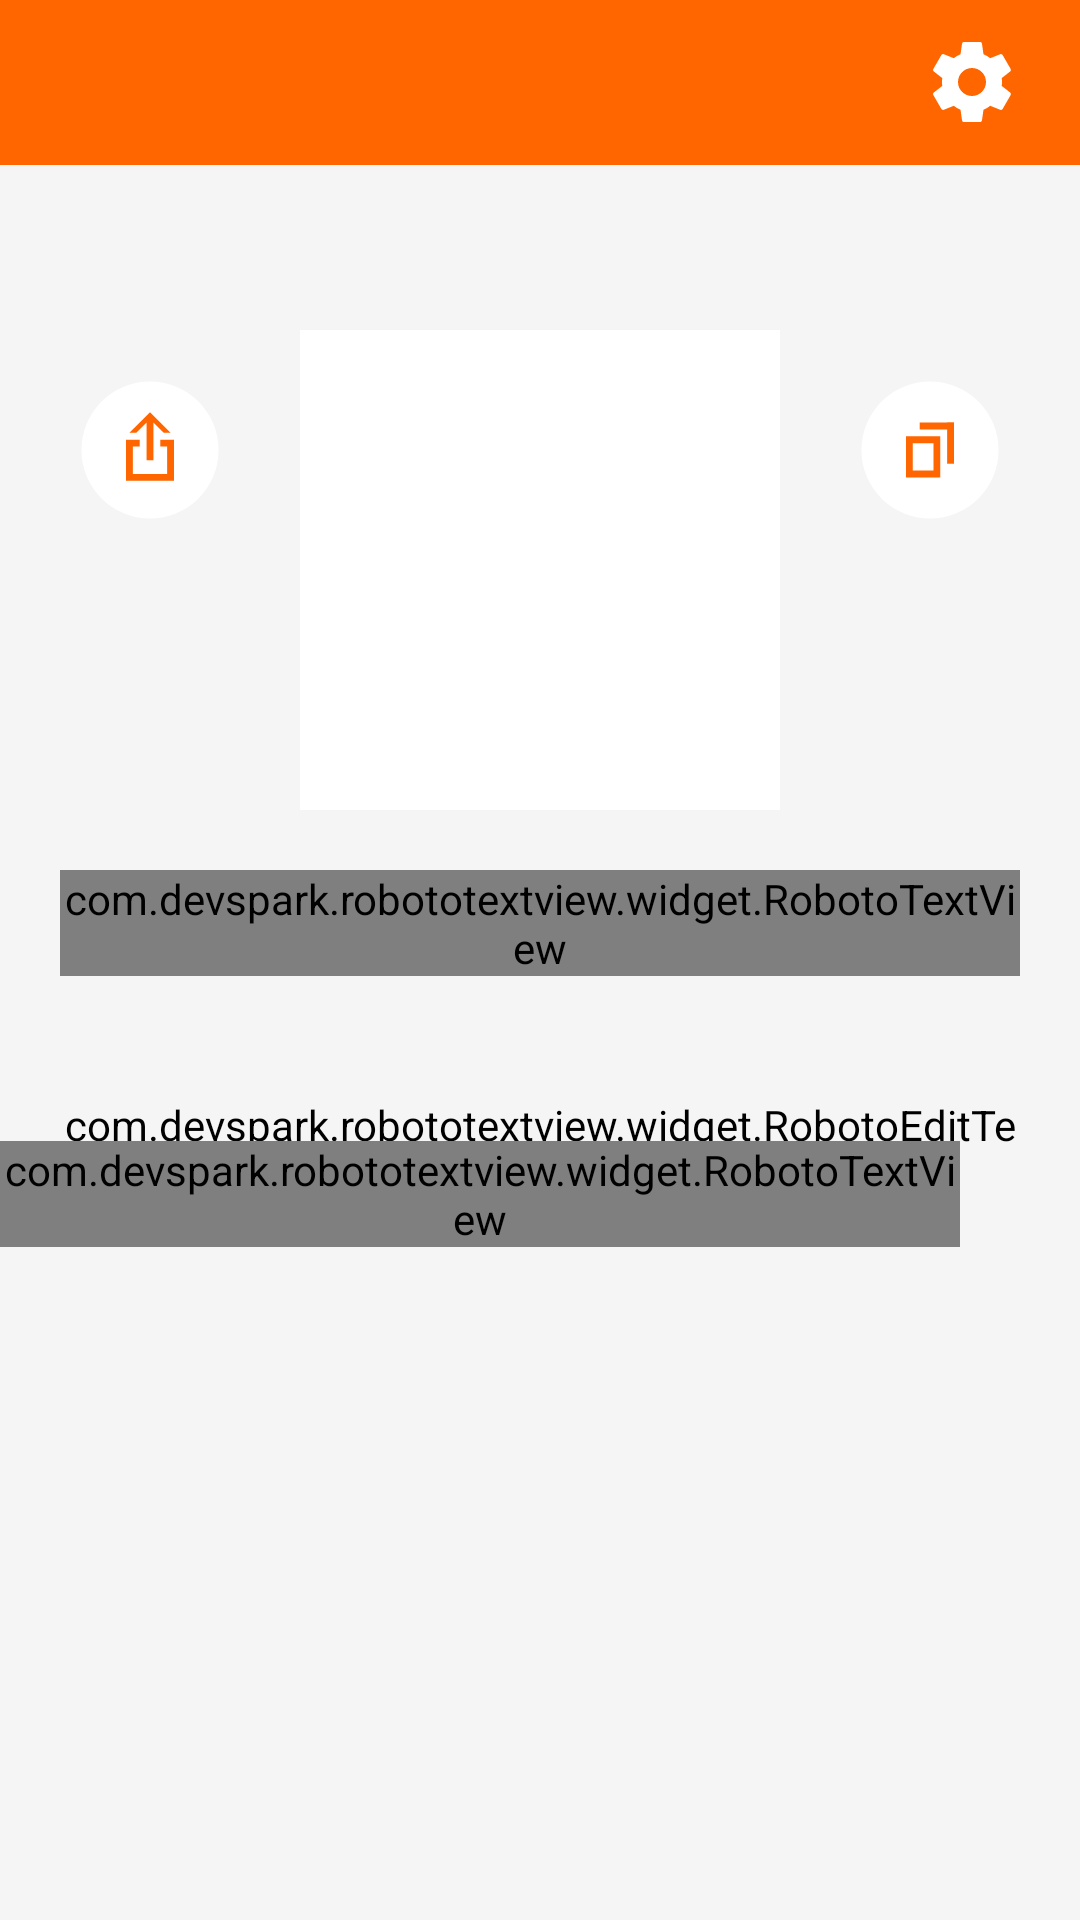

Icons on this 1080px x 1920px Android screen, each with its box as (x1,y1,x2,y2):
settings: (933,42,1011,122)
share: (82,382,218,518)
